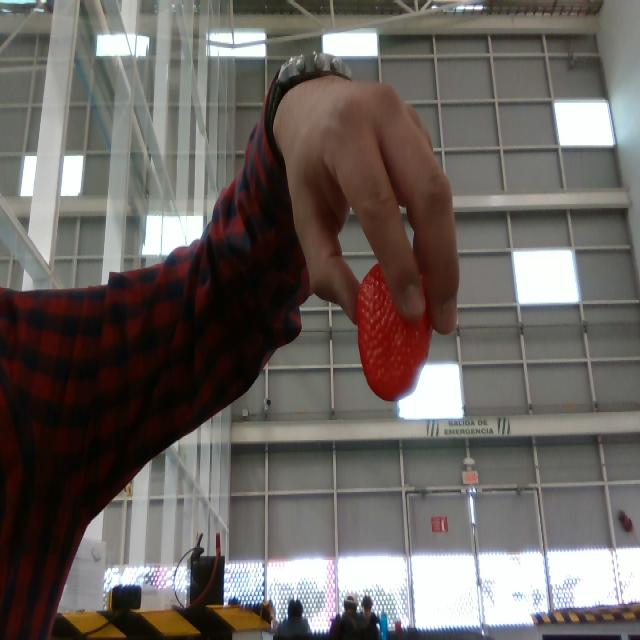grande_roja: (358, 264, 429, 400)
